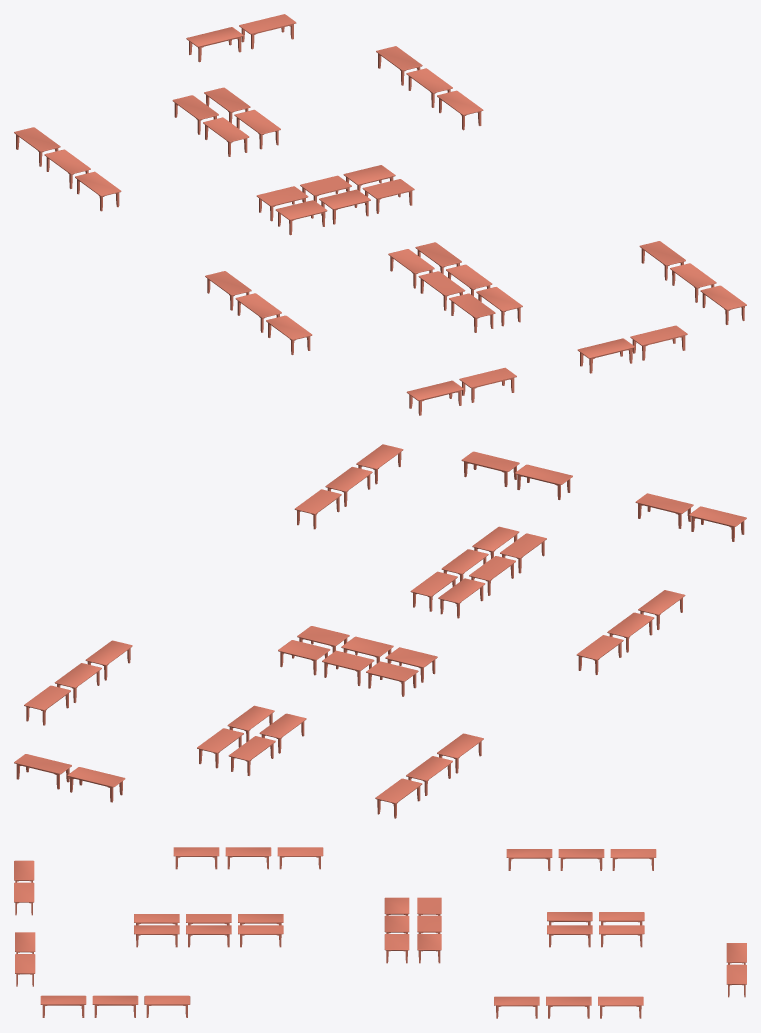
Rendered from boothCourt.glb.
3 renders of one model, top to bottom at view 1: azimuth 30°, elevation 25°; view 2: azimuth 150°, elevation 25°; view 3: azimuth 270°, elevation 25°, orthographic. The views are drawn at different scales.
Visible parts, largest first — view 1: old_table.014; view 2: old_table.014; view 3: old_table.014.
Part boxes in pixels (x1,y1,x2,y2): old_table.014: [14, 14, 746, 415]; old_table.014: [14, 444, 746, 818]; old_table.014: [14, 847, 746, 1018].
Bounding box in the file's own units: 22.39 × 0.9352 × 43.91.
